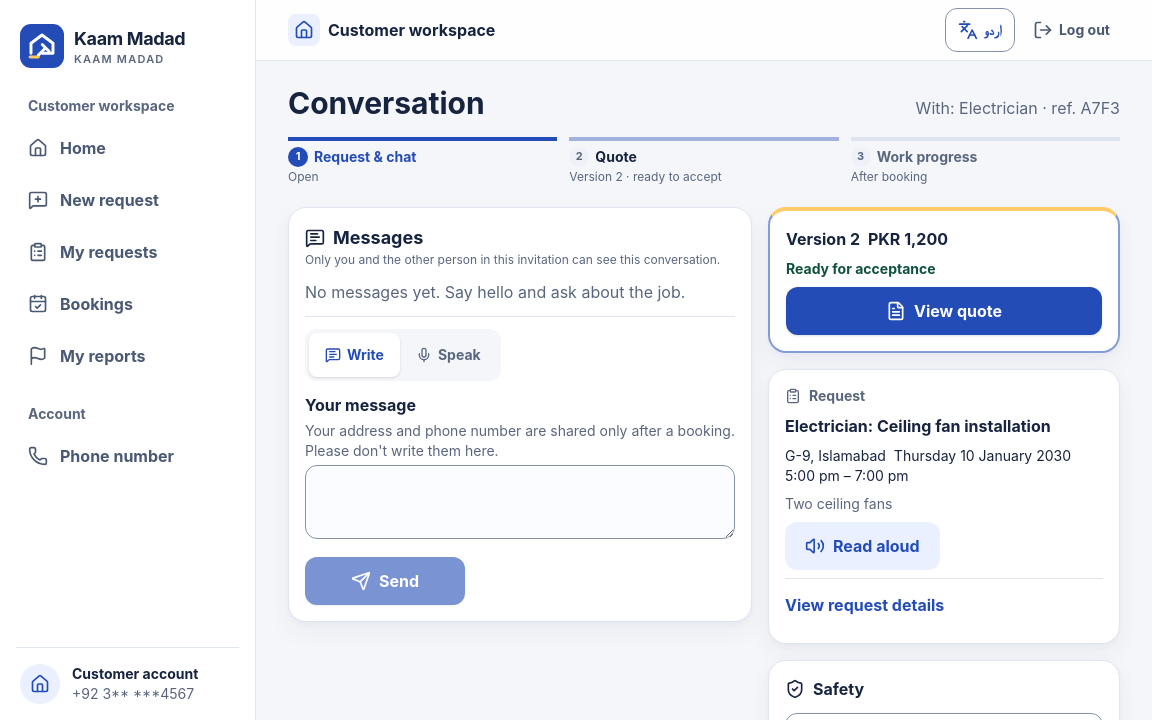
Scenario: accepting a quote › chat → View quote → accept: shows the exact terms and unknown costs, books with an idempotency key, then opens Work progress
What coordinates should you click on to do the following:
click the link "View quote"
I would click on:
 (944, 311)
Its box is [786,287,1102,335].
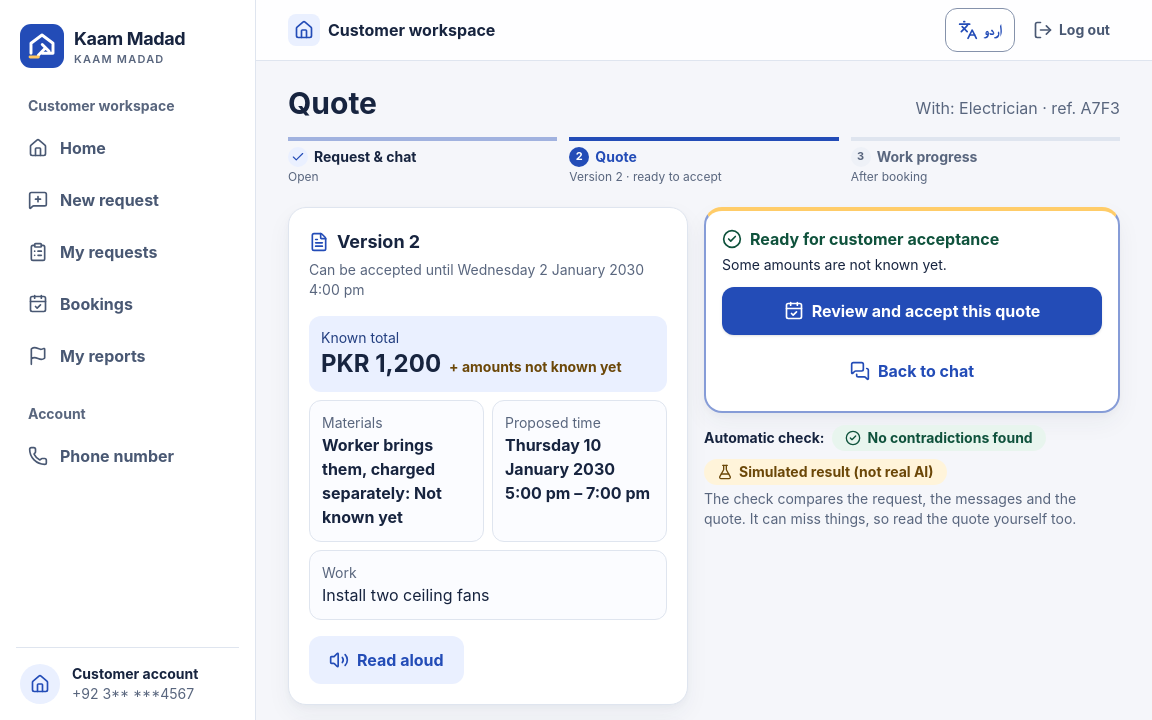
What coordinates should you click on to do the following:
click the button "Review and accept this quote"
I would click on:
 (912, 311)
Its box is [722,287,1102,335].
(page scrolled)
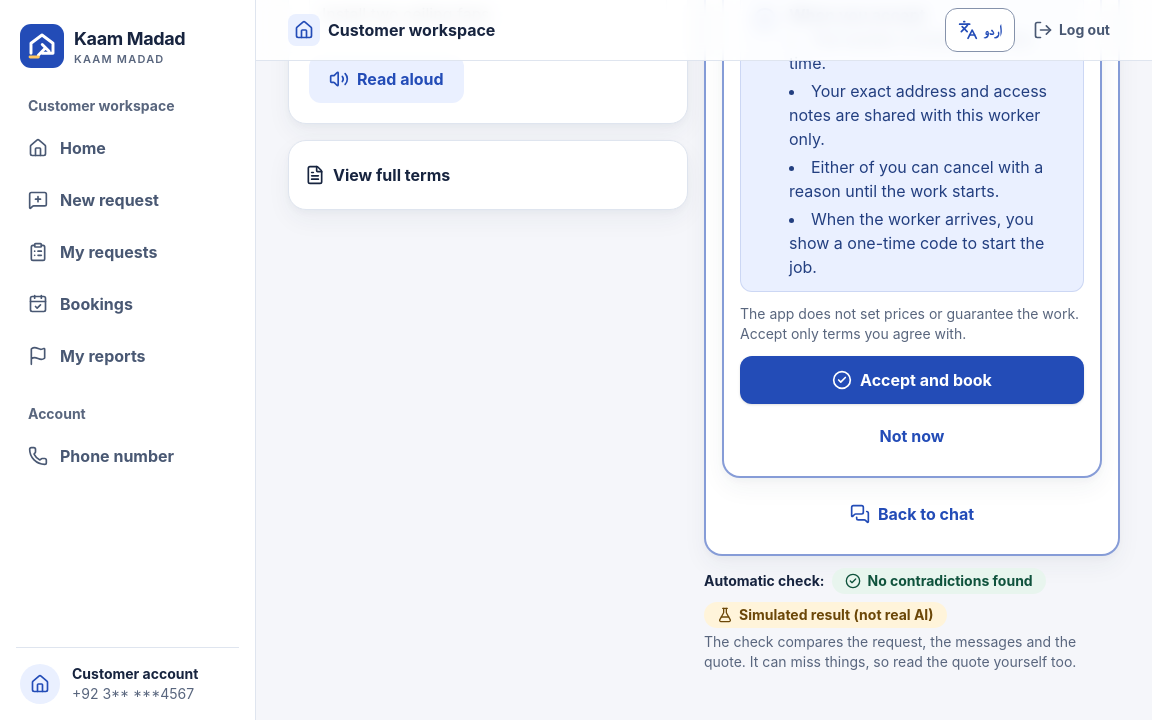
What coordinates should you click on to do the following:
click the button "Accept and book"
I would click on:
 (912, 380)
Its box is [740,356,1084,404].
(page scrolled)
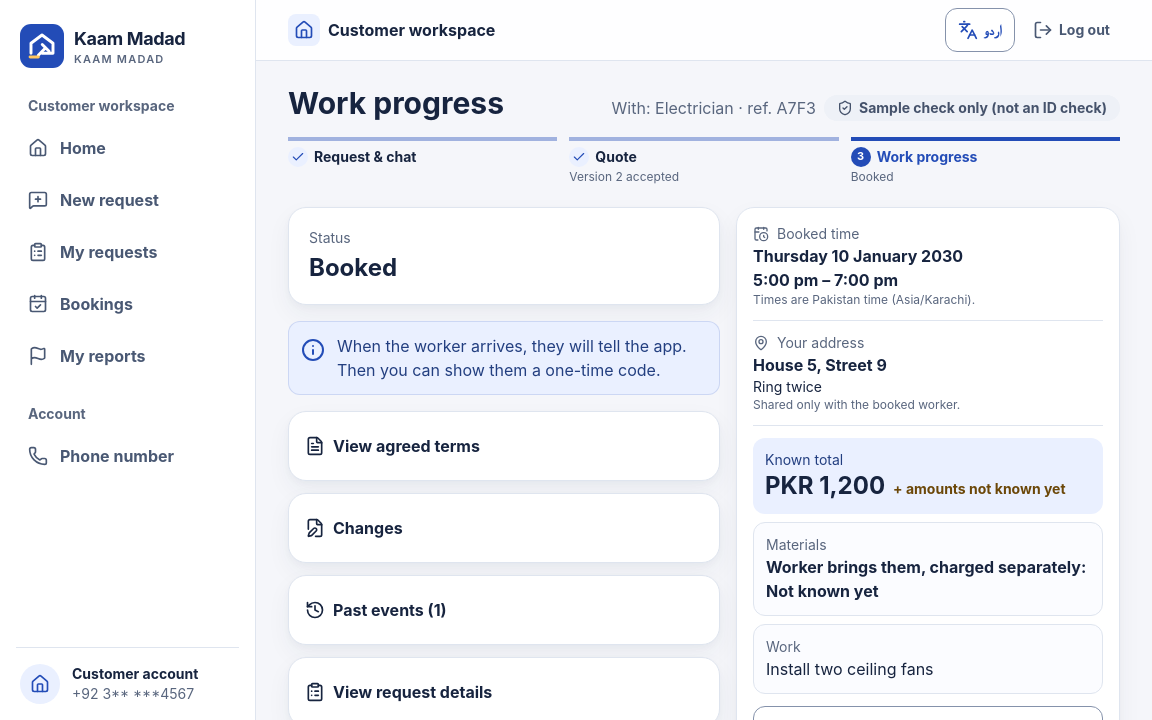
Now the heading "Work progress" is shown, box [288,85,504,121]
Now the heading "Booked" is shown, box [309,253,397,282]
Now the text "When the worker arrives, they will tell the app. Then you can show them a one-time code." is shown, box [337,336,687,380]
